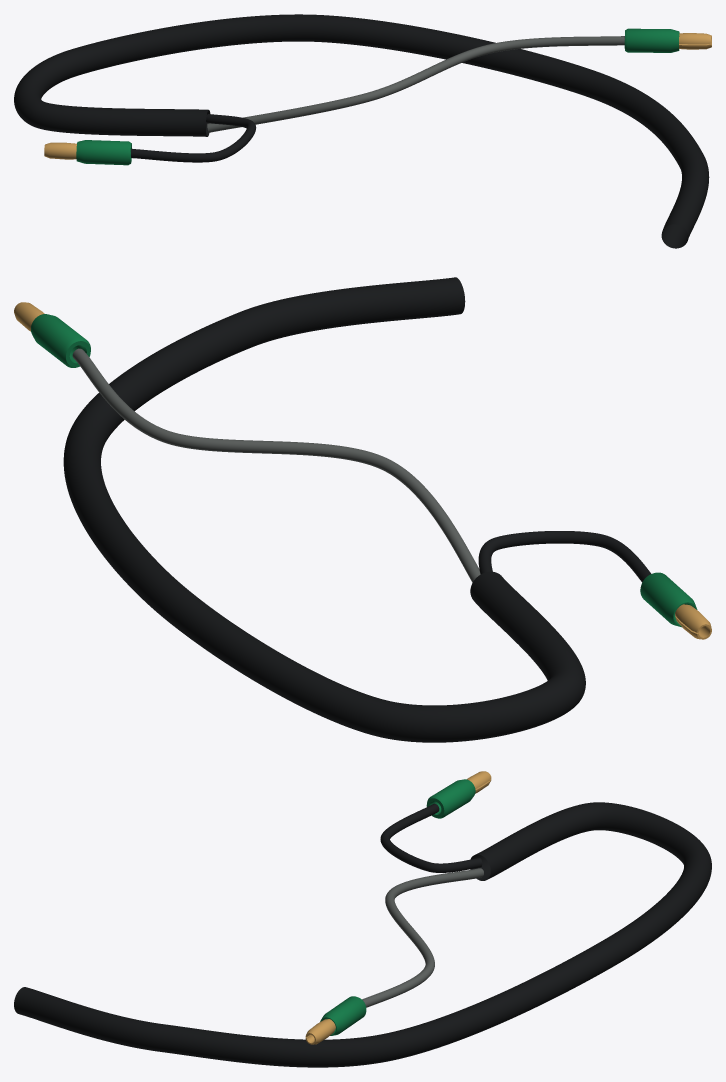
Rendered from leads-material.glb.
3 renders of one model, top to bottom at view 1: azimuth 30°, elevation 25°; view 2: azimuth 150°, elevation 25°; view 3: azimuth 270°, elevation 25°, orthographic. The views are drawn at different scales.
Parts seen in each view (by area): view 1: VISIBLE_BLACK_OUTER_JACKET_LOOP, BRANCH_2_INSULATION, BRANCH_1_INSULATION, GREEN_SLEEVE_1_GRAY_REVIEW, GREEN_SLEEVE_2_GRAY_REVIEW, ROLLED_TERMINAL_1_GRAY_REVIEW, ROLLED_TERMINAL_2_GRAY_REVIEW; view 2: VISIBLE_BLACK_OUTER_JACKET_LOOP, BRANCH_2_INSULATION, BRANCH_1_INSULATION, GREEN_SLEEVE_2_GRAY_REVIEW, GREEN_SLEEVE_1_GRAY_REVIEW, ROLLED_TERMINAL_1_GRAY_REVIEW; view 3: VISIBLE_BLACK_OUTER_JACKET_LOOP, BRANCH_2_INSULATION, BRANCH_1_INSULATION, GREEN_SLEEVE_1_GRAY_REVIEW, GREEN_SLEEVE_2_GRAY_REVIEW, ROLLED_TERMINAL_2_GRAY_REVIEW.
Boxes of the visible parts, bbox=[...] form: VISIBLE_BLACK_OUTER_JACKET_LOOP: bbox=[14, 14, 709, 248]; BRANCH_2_INSULATION: bbox=[207, 36, 624, 132]; BRANCH_1_INSULATION: bbox=[131, 114, 256, 162]; GREEN_SLEEVE_1_GRAY_REVIEW: bbox=[76, 140, 132, 165]; GREEN_SLEEVE_2_GRAY_REVIEW: bbox=[624, 28, 679, 52]; ROLLED_TERMINAL_1_GRAY_REVIEW: bbox=[44, 142, 76, 159]; ROLLED_TERMINAL_2_GRAY_REVIEW: bbox=[679, 33, 711, 49]; VISIBLE_BLACK_OUTER_JACKET_LOOP: bbox=[63, 277, 585, 742]; BRANCH_2_INSULATION: bbox=[72, 348, 480, 582]; BRANCH_1_INSULATION: bbox=[478, 531, 651, 582]; GREEN_SLEEVE_2_GRAY_REVIEW: bbox=[31, 314, 90, 367]; GREEN_SLEEVE_1_GRAY_REVIEW: bbox=[640, 572, 697, 627]; ROLLED_TERMINAL_1_GRAY_REVIEW: bbox=[675, 604, 711, 639]; VISIBLE_BLACK_OUTER_JACKET_LOOP: bbox=[14, 802, 711, 1067]; BRANCH_2_INSULATION: bbox=[362, 868, 483, 1007]; BRANCH_1_INSULATION: bbox=[380, 803, 482, 872]; GREEN_SLEEVE_1_GRAY_REVIEW: bbox=[426, 779, 475, 818]; GREEN_SLEEVE_2_GRAY_REVIEW: bbox=[320, 996, 366, 1035]; ROLLED_TERMINAL_2_GRAY_REVIEW: bbox=[305, 1019, 335, 1044].
Bounding box in the file's own units: 0.125 × 0.0148 × 0.125.
